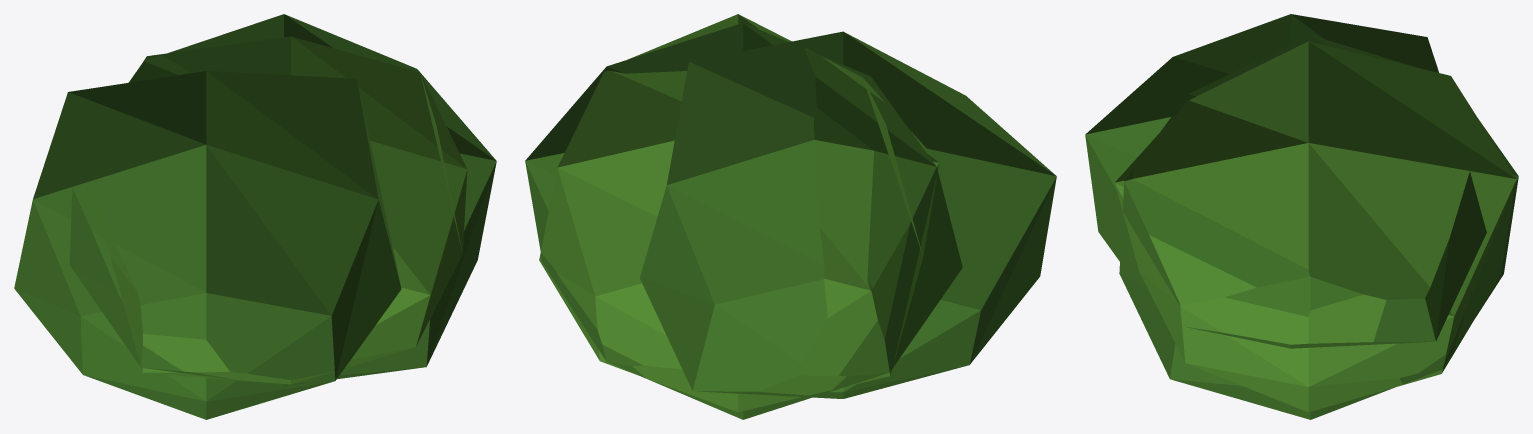
File: bush-a.glb
3 views of the same model, side by side, from view 1: azimuth 30°, elevation 25°; view 2: azimuth 150°, elevation 25°; view 3: azimuth 270°, elevation 25° (orthographic). The views are drawn at different scales.
Parts seen in each view (by area): view 1: bush-a; view 2: bush-a; view 3: bush-a.
Part boxes in pixels (box(x1,y1,x2,y2)): bush-a: box(14, 14, 496, 419); bush-a: box(525, 14, 1056, 419); bush-a: box(1085, 14, 1518, 419).
Bounding box in the file's own units: 1.74 × 1.13 × 1.34.
